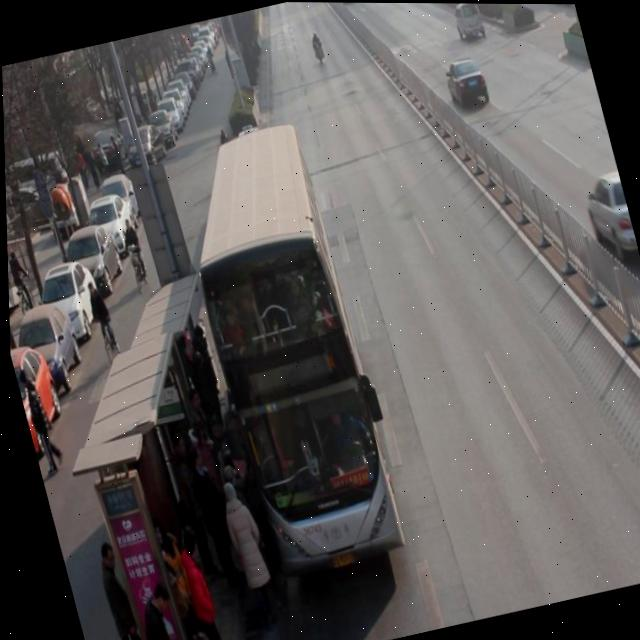car: (580, 175, 638, 261), (442, 56, 492, 113), (337, 2, 356, 6)
truck: (450, 3, 486, 43)
van: (160, 119, 404, 578)
